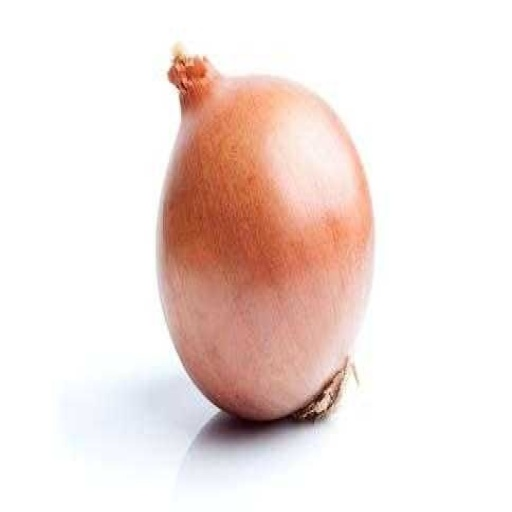Zwiebel: (156, 43, 376, 421)
